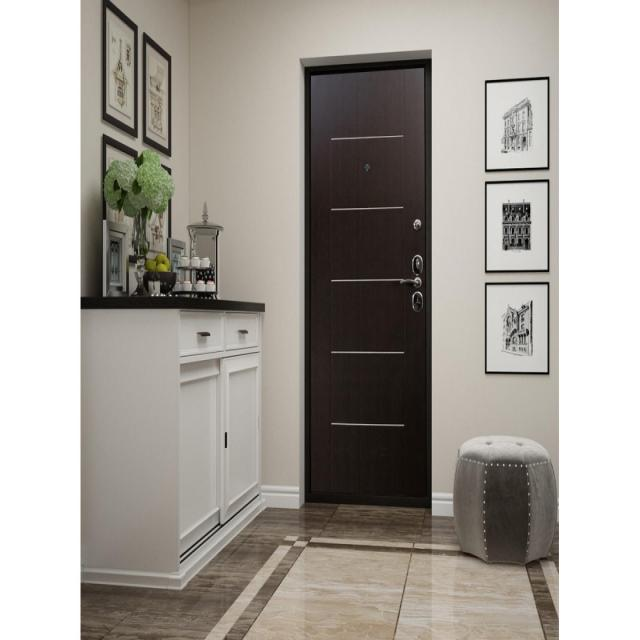close: (309, 73, 432, 515)
